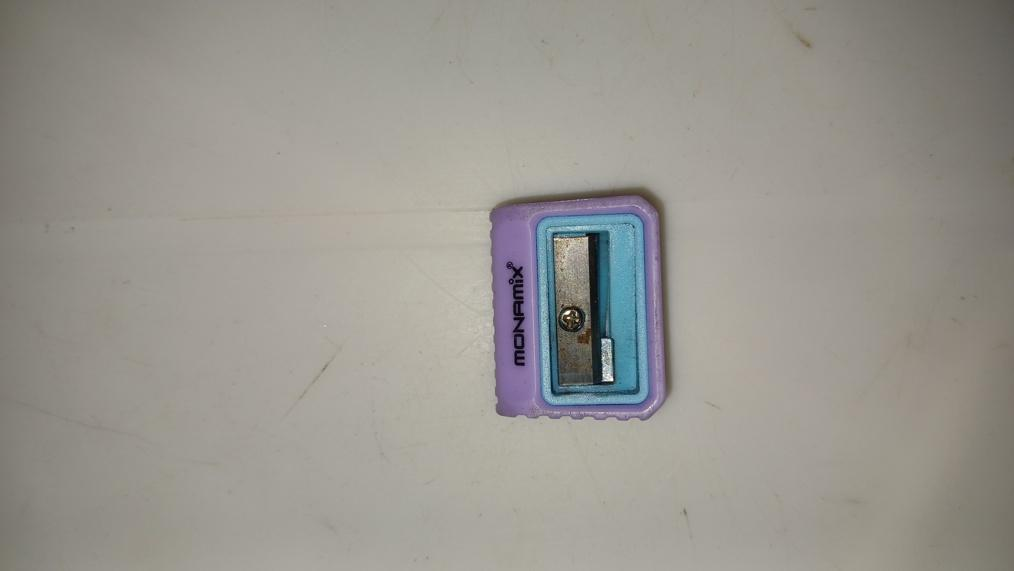Sharpener: (489, 193, 676, 421)
